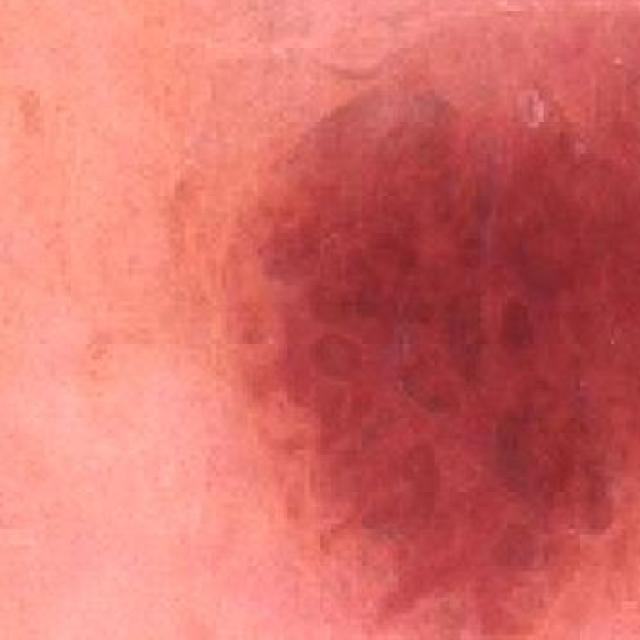BKL: (211, 0, 640, 640)
